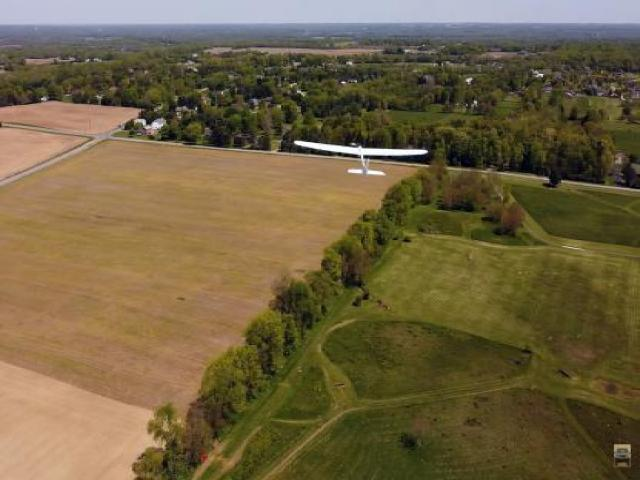uav: (283, 129, 437, 186)
